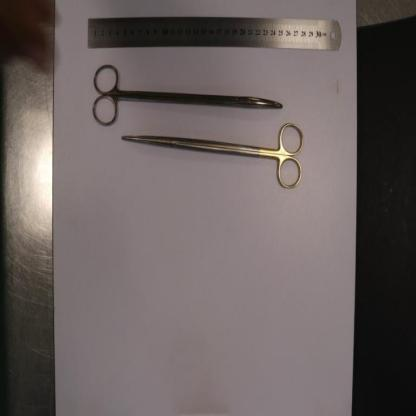7 Metzenbaum Scissors: (122, 122, 305, 191)
9 Metzenbaum Scissors: (92, 64, 282, 128)
